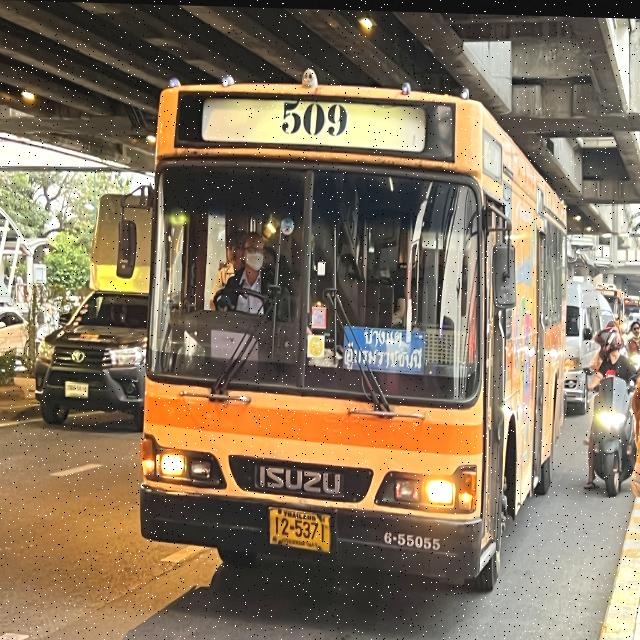BMTA-bus: (127, 52, 568, 606)
Bus-Line-Number: (272, 94, 357, 142)
Destination-Sign-Normal: (340, 322, 426, 371)
